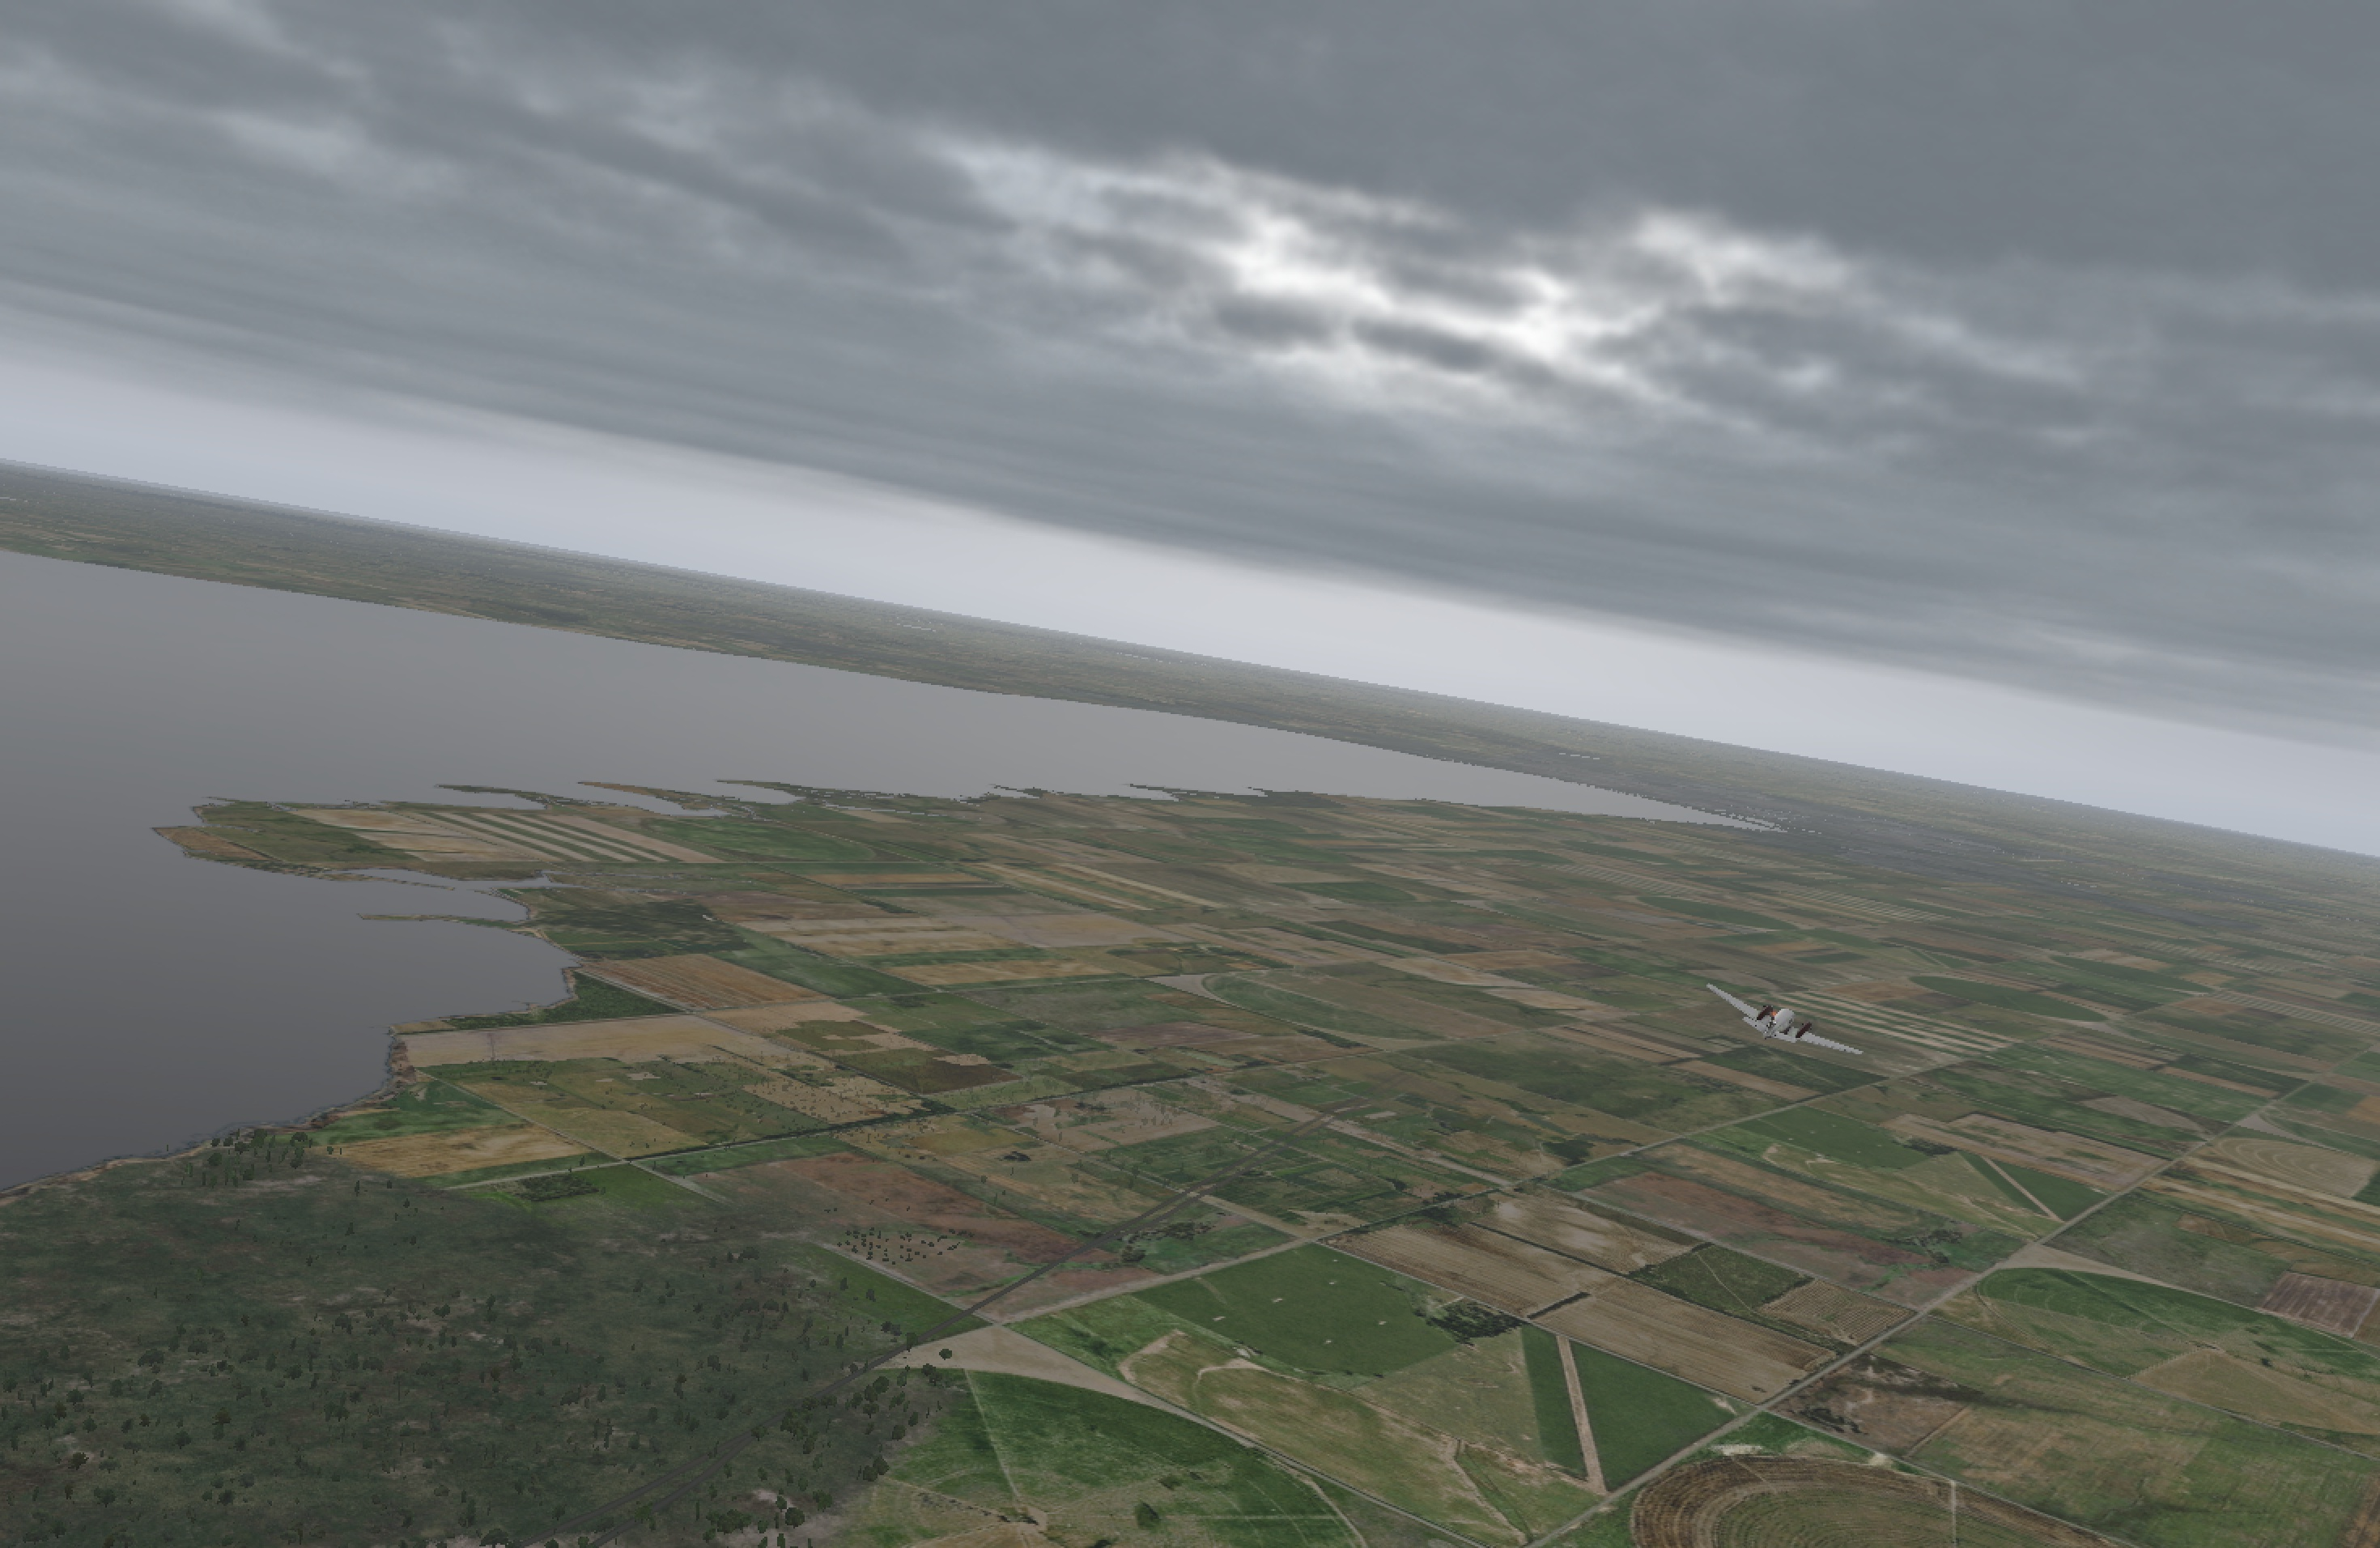aircraft: (1702, 996, 1860, 1055)
